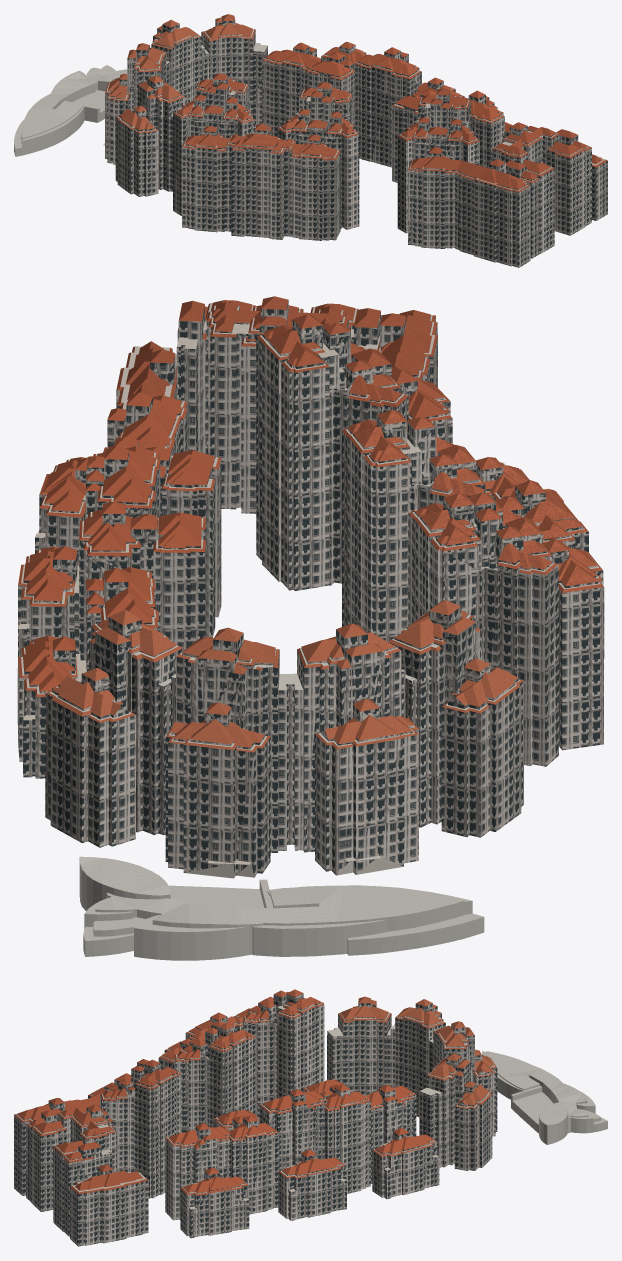
The picture shows the model from 3 angles, top to bottom: view 1: azimuth 30°, elevation 25°; view 2: azimuth 150°, elevation 25°; view 3: azimuth 270°, elevation 25°; orthographic projection. The views are drawn at different scales.
Parts seen in each view (by area): view 1: Tanjong Rhu residential waterfront; view 2: Tanjong Rhu residential waterfront; view 3: Tanjong Rhu residential waterfront.
Boxes of the visible parts, x1,y1,x2,y2 form: Tanjong Rhu residential waterfront: (14, 14, 607, 267); Tanjong Rhu residential waterfront: (17, 296, 604, 960); Tanjong Rhu residential waterfront: (14, 989, 607, 1246).
Size of the model in its own units: 229 by 73.06 by 311.
8 materials, 8 textured.
